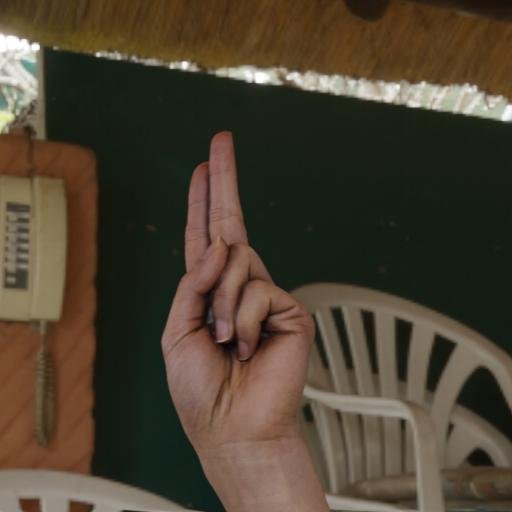U: (140, 106, 320, 468)
